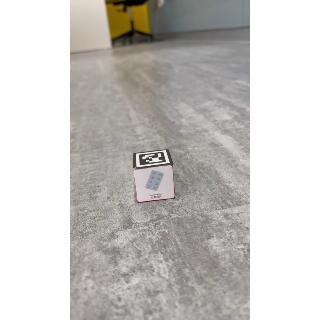Tablet: (133, 166, 175, 203)
